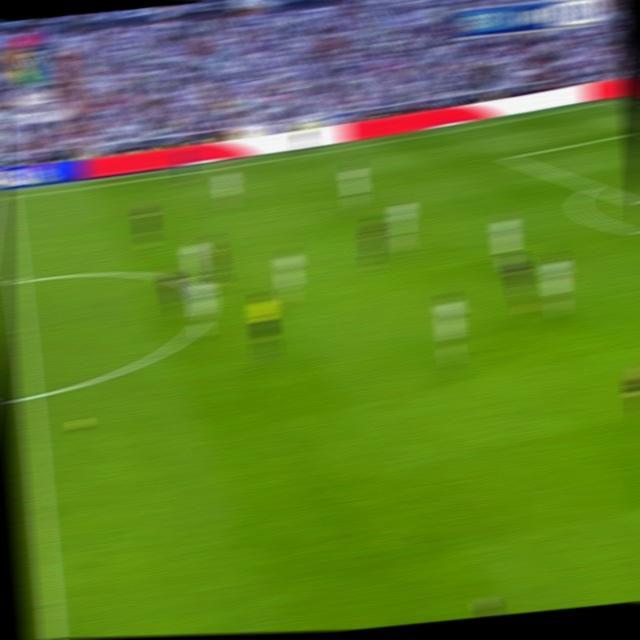bigarea_bottom_outter: (583, 177, 600, 195)
halfcircle_bottom: (17, 379, 41, 413)
halfcircle_top: (5, 266, 28, 293)
midline_top_intersection: (0, 189, 17, 205)
